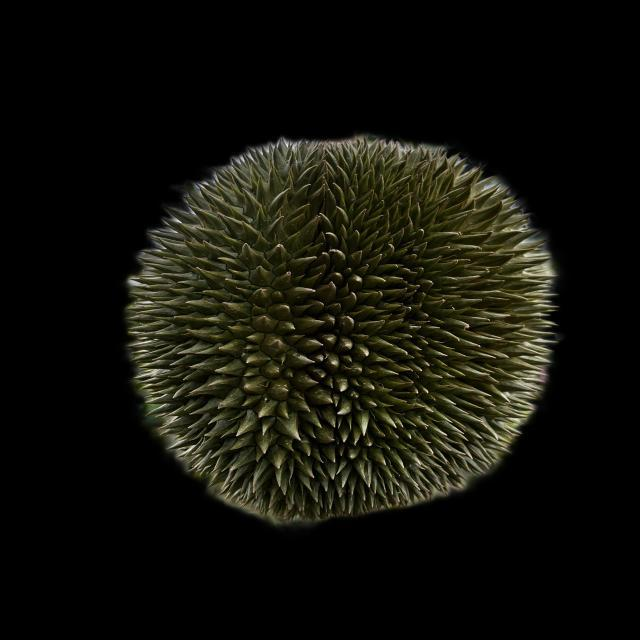immature: (126, 130, 556, 524)
